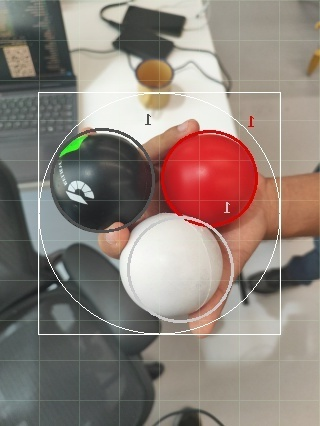Pelota blanca: (119, 212, 236, 325), (135, 57, 175, 91)
Pelota negra: (47, 124, 156, 232), (155, 406, 228, 425)
Pelota roja: (159, 129, 260, 227)
